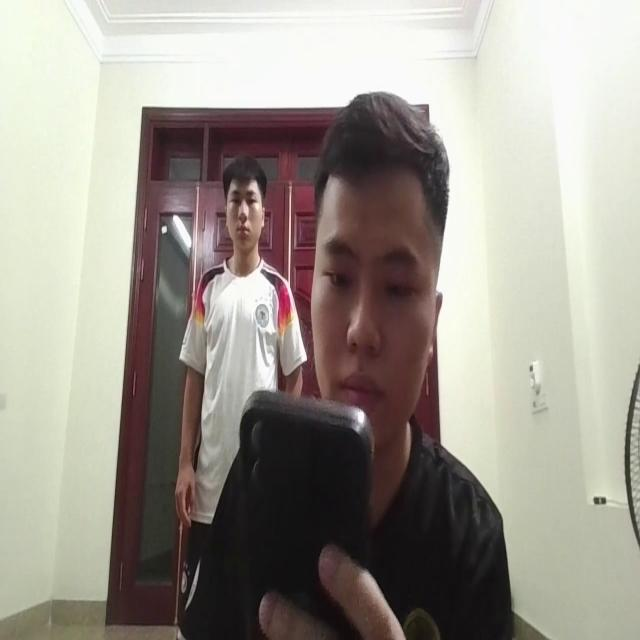extra_person: (188, 137, 292, 529)
phone: (234, 386, 375, 640)
student: (220, 86, 488, 640)
